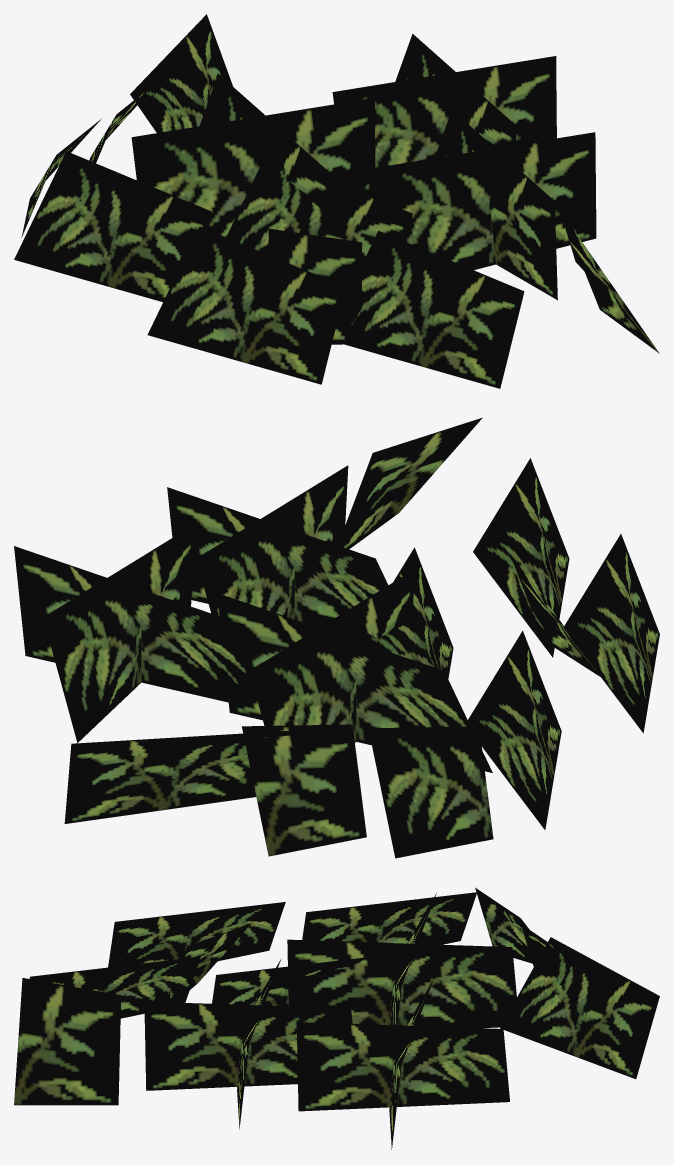
File: grs_flower_03_1.glb
The picture shows the model from 3 angles, top to bottom: view 1: azimuth 30°, elevation 25°; view 2: azimuth 150°, elevation 25°; view 3: azimuth 270°, elevation 25°; orthographic projection. The views are drawn at different scales.
Parts seen in each view (by area): view 1: grs_flower_03_1; view 2: grs_flower_03_1; view 3: grs_flower_03_1.
Part boxes in pixels (x1=…): grs_flower_03_1: x1=14, y1=14, x2=659, y2=388; grs_flower_03_1: x1=14, y1=417, x2=659, y2=858; grs_flower_03_1: x1=14, y1=887, x2=659, y2=1149.
Bounding box in the file's own units: 5.48 × 1.14 × 6.97.
1 material, 1 textured.
